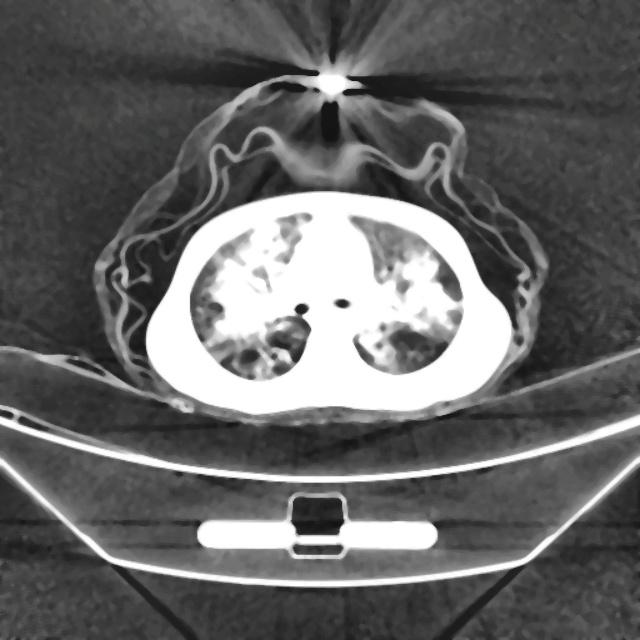covid: (91, 69, 551, 427)
